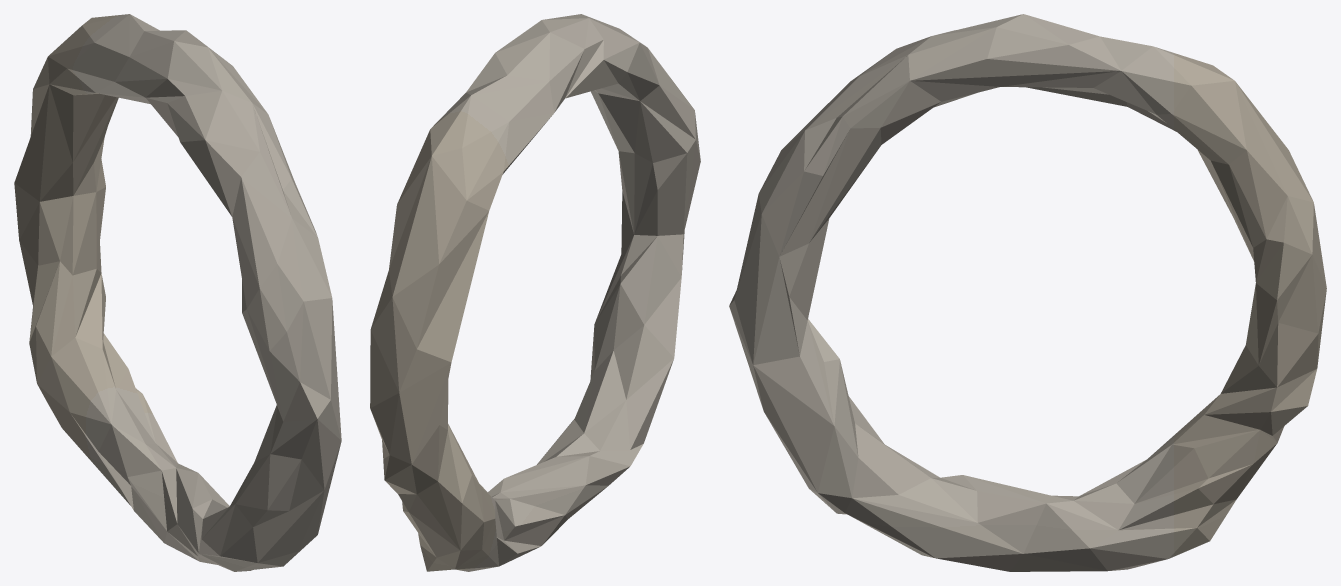
Rendered from YN_CircleRockFormation.fbx.
3 renders of one model, left to right at view 1: azimuth 30°, elevation 25°; view 2: azimuth 150°, elevation 25°; view 3: azimuth 270°, elevation 25°, orthographic. The views are drawn at different scales.
Parts seen in each view (by area): view 1: CircleRockFormation; view 2: CircleRockFormation; view 3: CircleRockFormation.
Boxes of the visible parts, box(x1,y1,x2,y2) form: CircleRockFormation: box(14, 14, 341, 571); CircleRockFormation: box(370, 14, 700, 571); CircleRockFormation: box(729, 14, 1326, 571).
Size of the model in its own units: 1.12 by 5.72 by 5.73.
